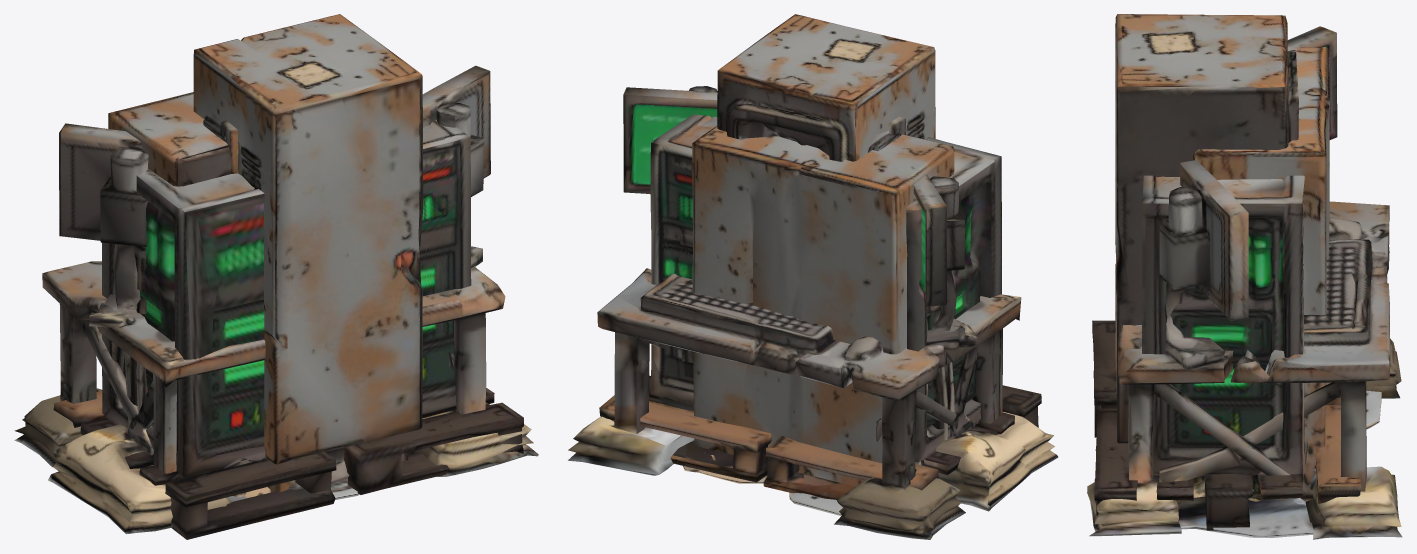
The model's file is rusty+computer+workstation+3d+model.fbx.
The picture shows the model from 3 angles, left to right: view 1: azimuth 30°, elevation 25°; view 2: azimuth 150°, elevation 25°; view 3: azimuth 270°, elevation 25°; orthographic projection. The views are drawn at different scales.
Parts seen in each view (by area): view 1: consesador, servers, computer, panel power; view 2: computer, panel power, servers, consesador; view 3: computer, servers, consesador, panel power.
Part boxes in pixels (x1,y1,x2,y2): consesador: (193,14,423,492); servers: (53,119,523,539); computer: (14,65,538,534); panel power: (108,92,271,497); computer: (568,86,1058,539); panel power: (683,126,955,515); servers: (599,114,1041,499); consesador: (717,14,935,161); computer: (1087,26,1402,539); servers: (1092,175,1360,530); consesador: (1115,14,1298,443); panel power: (1193,47,1381,501).
Bounding box in the file's own units: 44.35 × 41.49 × 29.
